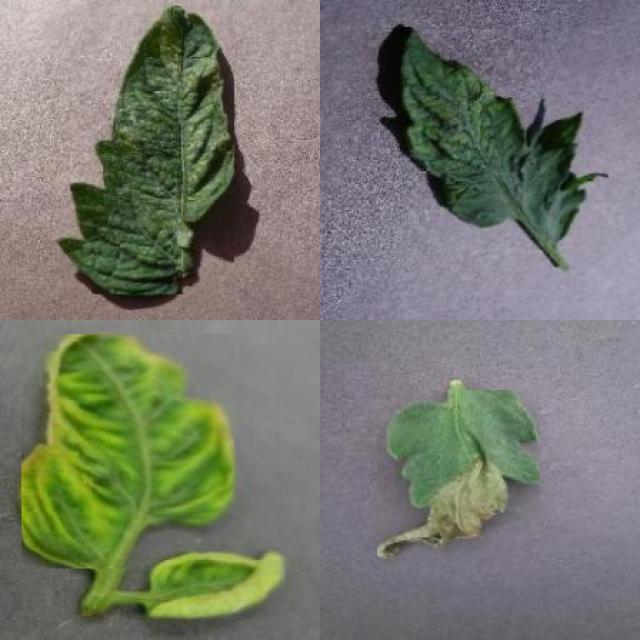Late Blight: (378, 391, 541, 559)
Mosaic Virus: (402, 27, 608, 250)
Spider Mites: (55, 5, 235, 295)
Yellow Leaf Curl Virus: (22, 334, 235, 569), (146, 552, 286, 618)
